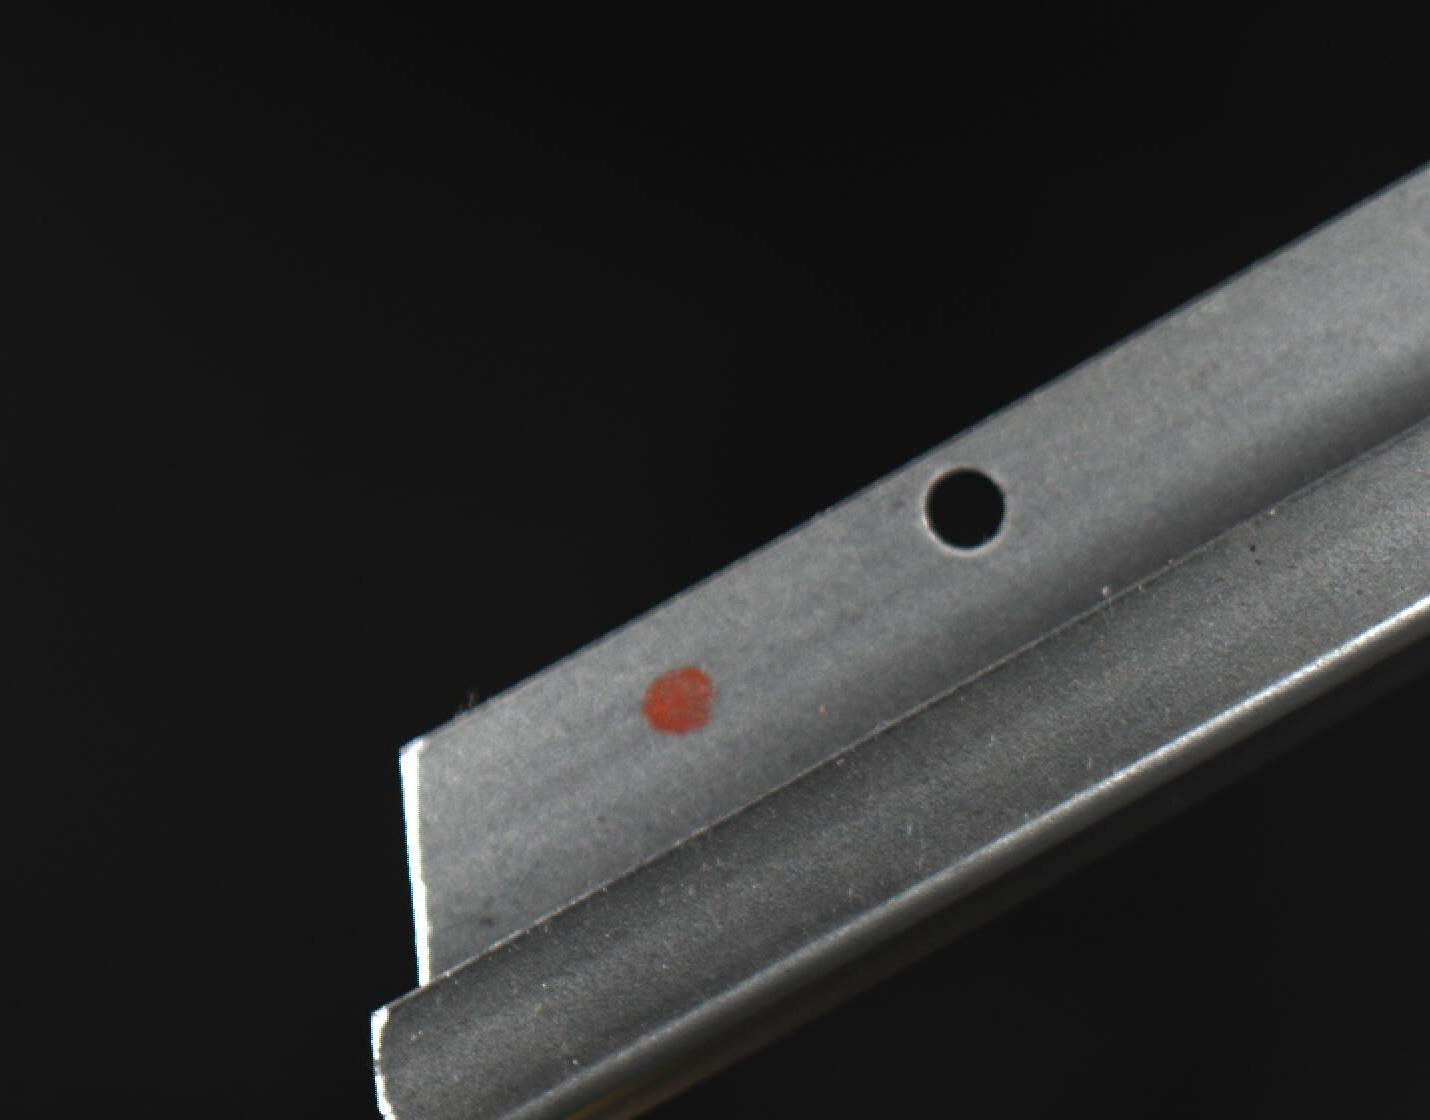cut: (310, 655, 763, 1113)
holes: (923, 465, 1009, 552)
